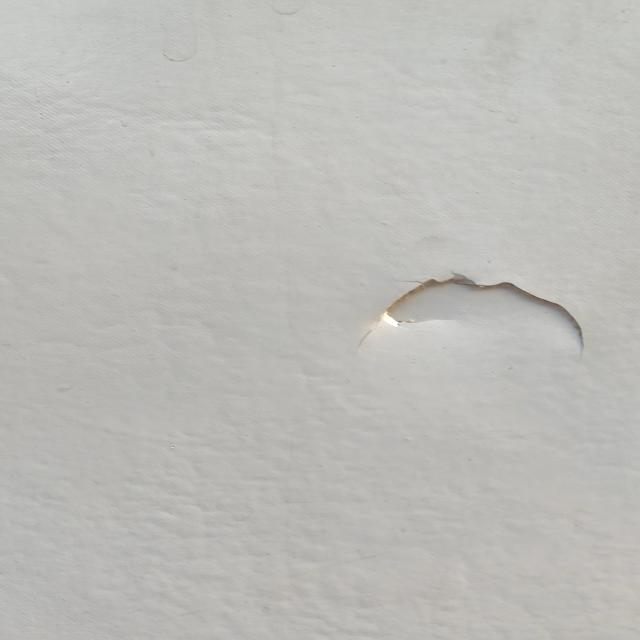Scratches: (363, 257, 610, 360)
